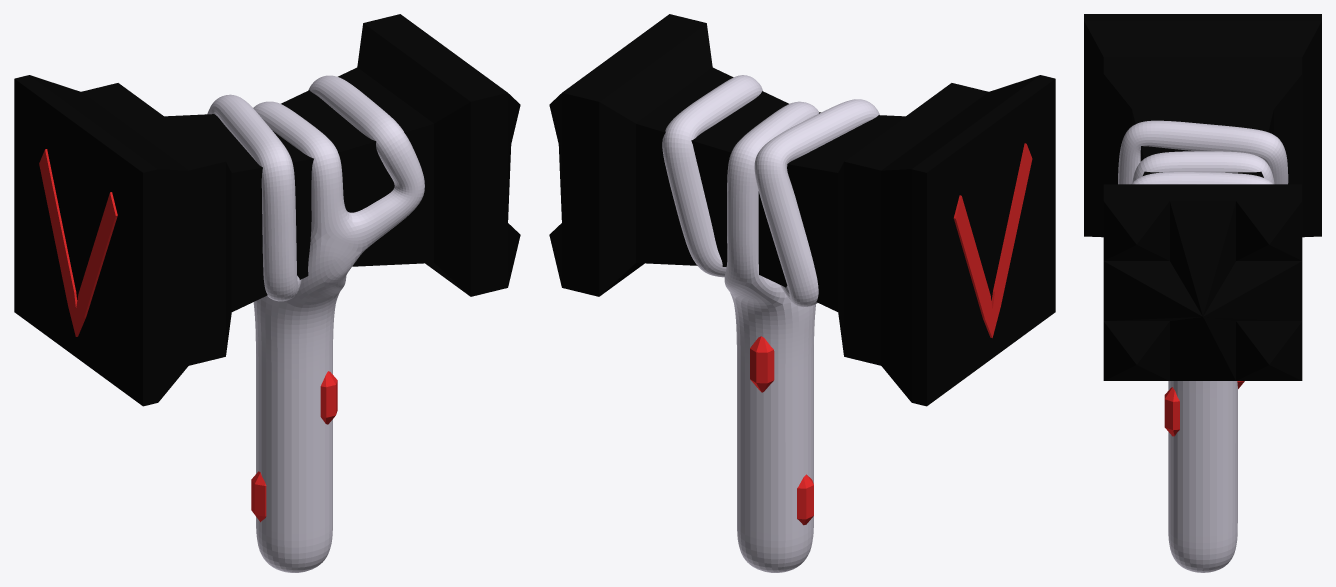
File: hammer-1.fbx
The picture shows the model from 3 angles, left to right: view 1: azimuth 30°, elevation 25°; view 2: azimuth 150°, elevation 25°; view 3: azimuth 270°, elevation 25°; orthographic projection. The views are drawn at different scales.
Parts seen in each view (by area): view 1: 6; view 2: 6; view 3: 6.
Boxes of the visible parts, bbox=[...] form: 6: bbox=[14, 14, 520, 572]; 6: bbox=[549, 14, 1055, 572]; 6: bbox=[1084, 14, 1321, 572].
Bounding box in the file's own units: 81.65 × 88.84 × 41.9.
